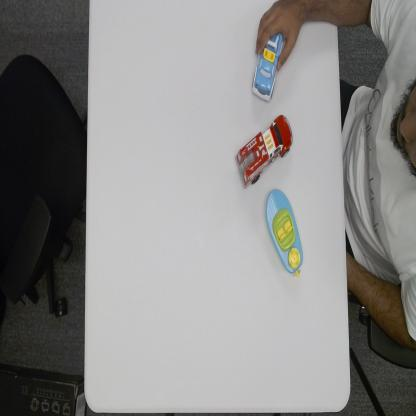Arm: (301, 0, 339, 26)
Boat: (265, 188, 304, 280)
Car: (250, 28, 284, 103)
Firetruck: (235, 112, 294, 190)
Hand: (255, 0, 301, 71)
